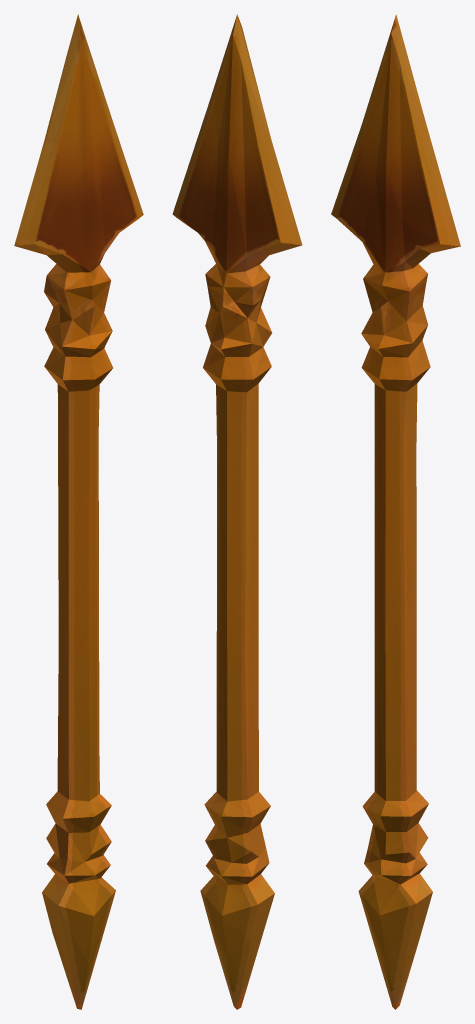
File: wooden_spear_1.glb
3 views of the same model, side by side, from view 1: azimuth 30°, elevation 25°; view 2: azimuth 150°, elevation 25°; view 3: azimuth 330°, elevation 25° (orthographic).
Visible parts, largest first — view 1: TexturedMesh_.obj; view 2: TexturedMesh_.obj; view 3: TexturedMesh_.obj.
Part boxes in pixels (<box>): TexturedMesh_.obj: <box>14,14,143,1009</box>; TexturedMesh_.obj: <box>172,14,302,1009</box>; TexturedMesh_.obj: <box>331,14,460,1009</box>.
Size of the model in its own units: 0.2699 by 1.98 by 0.1227.
Materials: 1 (1 with a texture image).
